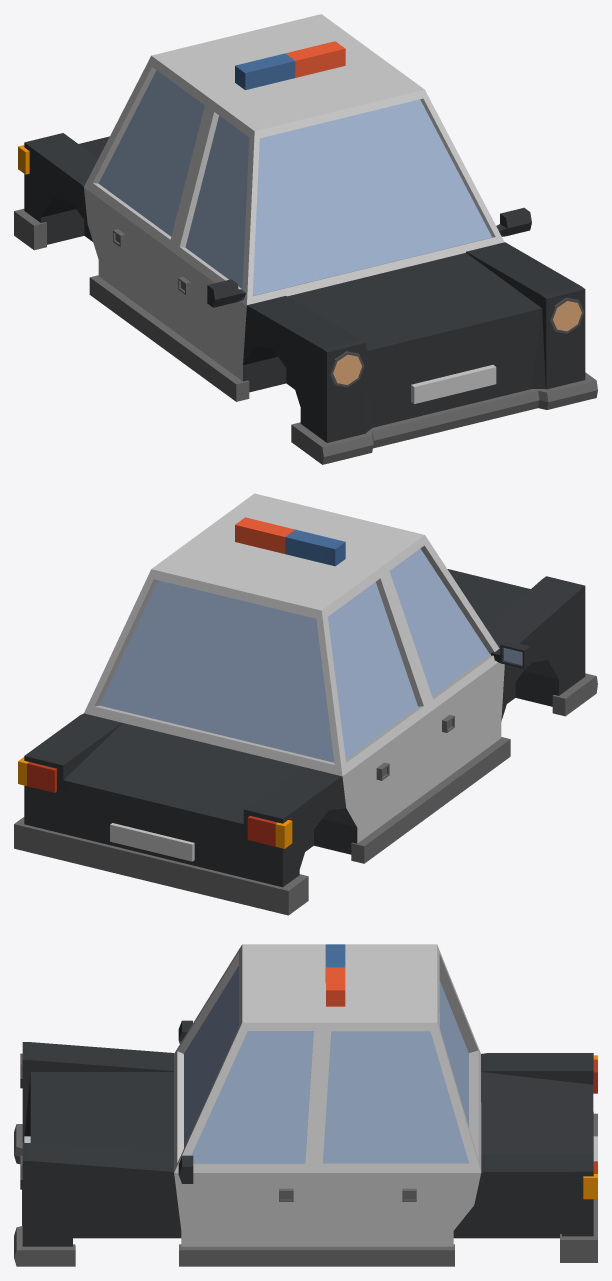
File: Car_01.glb
3 renders of one model, top to bottom at view 1: azimuth 30°, elevation 25°; view 2: azimuth 150°, elevation 25°; view 3: azimuth 270°, elevation 25°, orthographic. The views are drawn at different scales.
Visible parts, largest first — view 1: Car_01; view 2: Car_01; view 3: Car_01.
Part boxes in pixels (box(x1,y1,x2,y2)): Car_01: box(14, 14, 597, 464); Car_01: box(14, 493, 597, 915); Car_01: box(14, 944, 597, 1266).
Size of the model in its own units: 1.97 by 1.49 by 3.33.
Materials: 1 (1 with a texture image).
